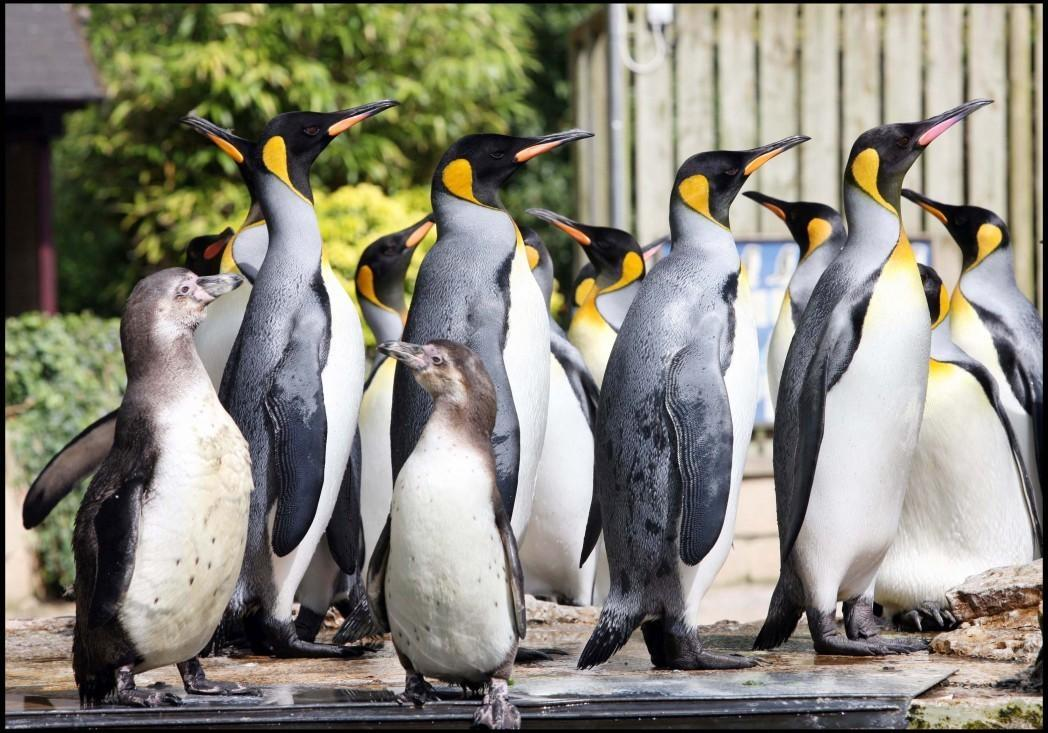Penguin: (755, 98, 990, 653), (579, 135, 805, 668), (213, 100, 396, 656), (22, 268, 251, 706), (403, 129, 589, 538), (368, 340, 525, 730), (876, 264, 1039, 629), (903, 188, 1042, 426), (517, 224, 602, 608), (180, 115, 268, 388), (745, 190, 845, 403), (529, 209, 644, 384), (354, 211, 433, 343), (355, 354, 395, 587)
